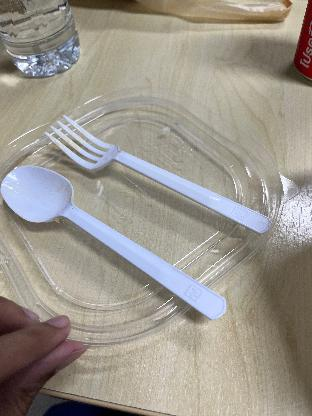Others: (0, 160, 232, 318), (42, 108, 278, 246)
